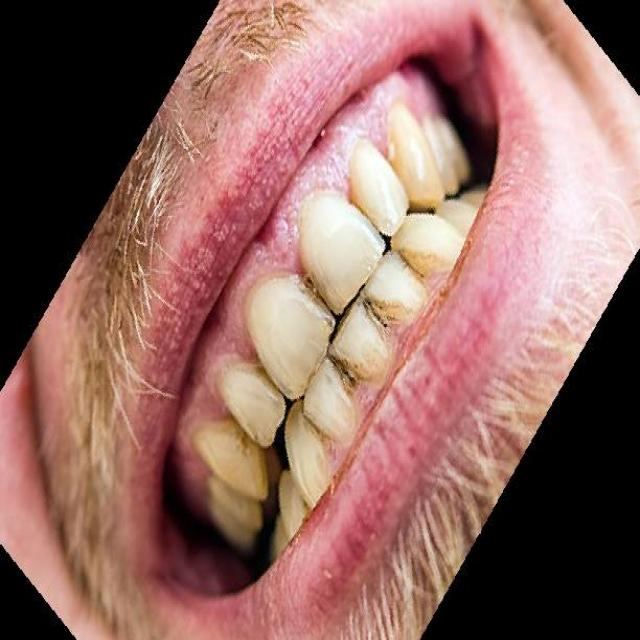calculus: (323, 343, 387, 406), (396, 235, 464, 293), (362, 289, 418, 350)
